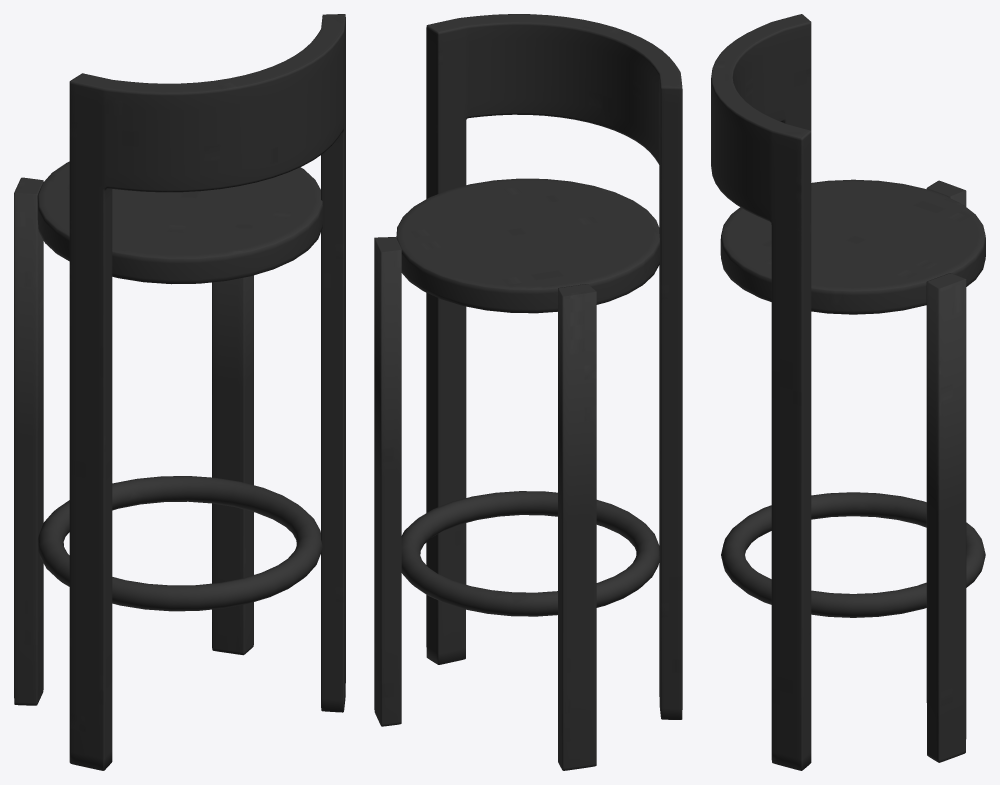
File: Chair25.glb
3 renders of one model, left to right at view 1: azimuth 30°, elevation 25°; view 2: azimuth 150°, elevation 25°; view 3: azimuth 270°, elevation 25°, orthographic. The views are drawn at different scales.
Parts seen in each view (by area): view 1: Chair25_model; view 2: Chair25_model; view 3: Chair25_model.
Boxes of the visible parts, x1,y1,x2,y2 form: Chair25_model: [14, 14, 345, 770]; Chair25_model: [374, 14, 682, 770]; Chair25_model: [711, 14, 985, 770].
Bounding box in the file's own units: 1.02 × 2.42 × 0.9537.
1 material, 1 textured.
